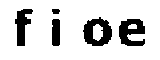e: (120, 15, 149, 50)
f: (11, 7, 36, 49)
i: (46, 5, 64, 50)
o: (80, 16, 112, 49)
